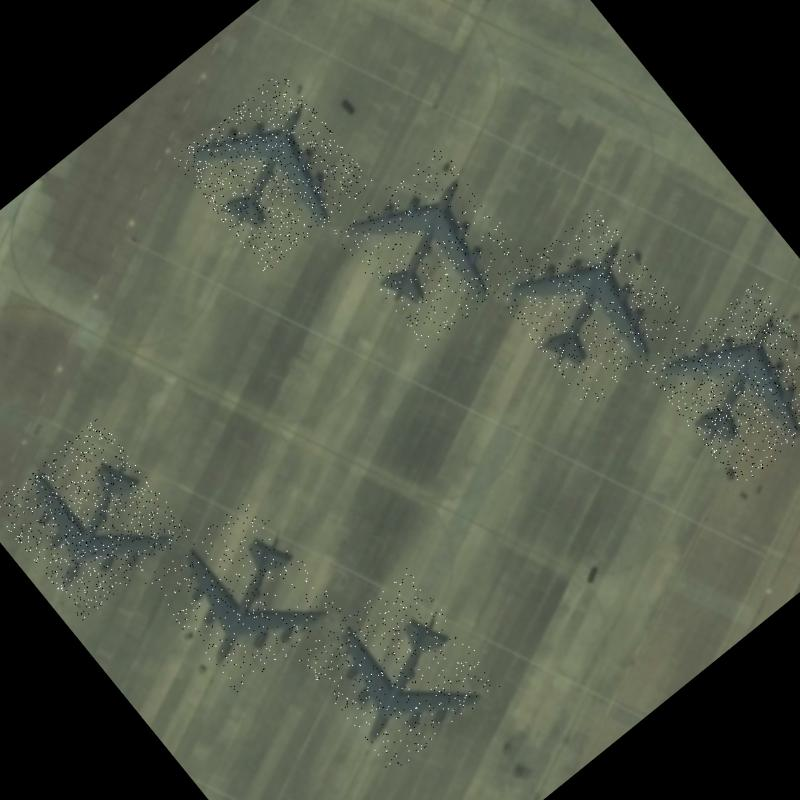A8: (296, 566, 503, 774), (331, 145, 534, 350), (492, 204, 694, 410), (172, 68, 375, 272), (143, 494, 342, 696), (0, 415, 191, 620), (644, 279, 800, 488)
